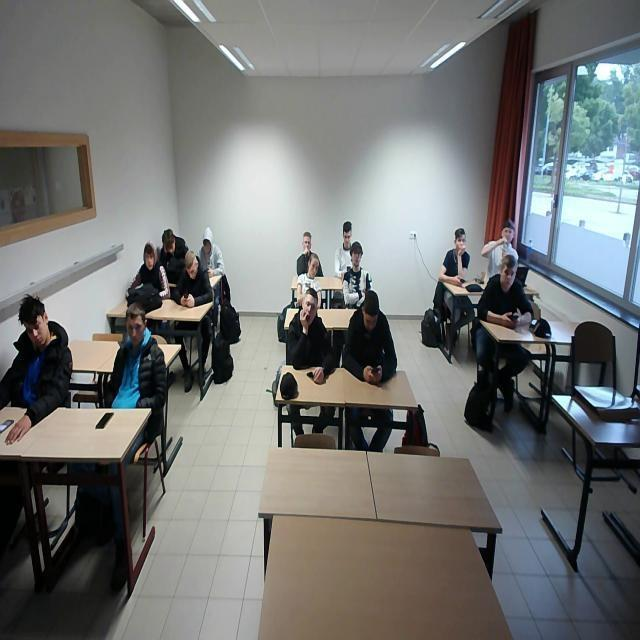phone_use: (341, 290, 395, 383), (172, 250, 211, 305), (197, 226, 222, 275)
